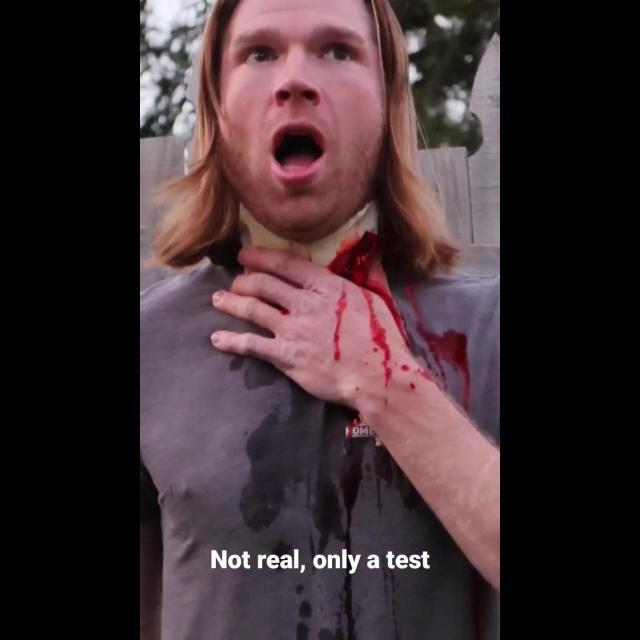blood: (328, 232, 471, 411), (332, 282, 347, 361)
